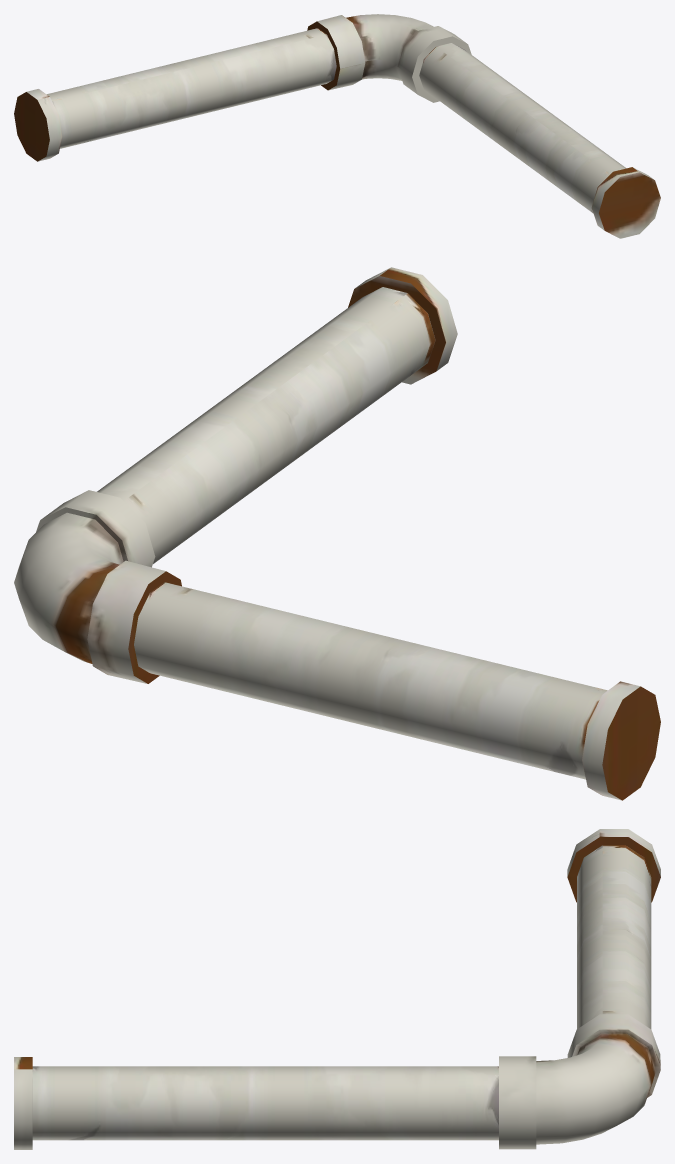
The picture shows the model from 3 angles, top to bottom: view 1: azimuth 30°, elevation 25°; view 2: azimuth 150°, elevation 25°; view 3: azimuth 270°, elevation 25°; orthographic projection. The views are drawn at different scales.
Parts seen in each view (by area): view 1: body0_model0_lod0_mesh0; view 2: body0_model0_lod0_mesh0; view 3: body0_model0_lod0_mesh0.
Boxes of the visible parts, x1,y1,x2,y2 form: body0_model0_lod0_mesh0: (14,14,660,238); body0_model0_lod0_mesh0: (14,267,660,800); body0_model0_lod0_mesh0: (14,829,660,1149).
Bounding box in the file's own units: 64.14 × 9.51 × 69.12.
Materials: 1 (1 with a texture image).
